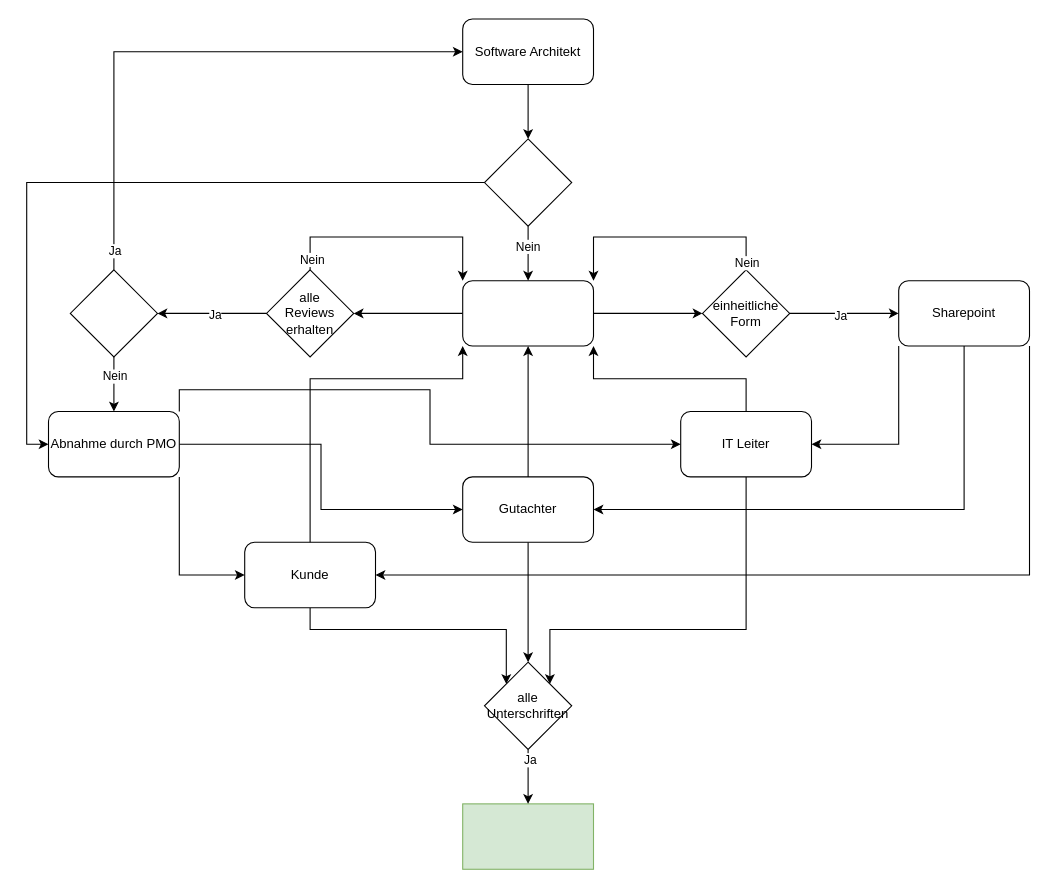
Some shapes in this 1057 by 888 pixel diagram are drawn without their labels. Each missing label, with the centre of its shape:
"Fehler" goes at pixel 113 313.
"Implementierung" goes at pixel 528 836.
"PMO" goes at pixel 528 313.
"weniger kritischer Fehler" goes at pixel 527 182.
